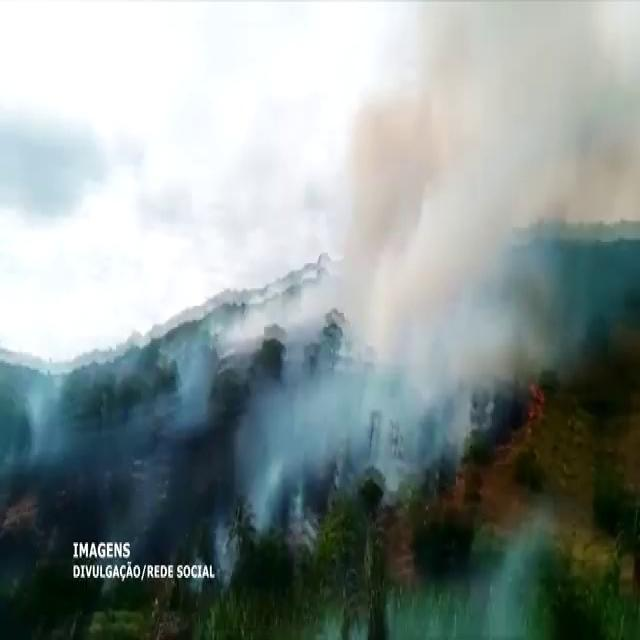Fire: (524, 386, 548, 439)
Smoke: (332, 25, 594, 382), (234, 366, 365, 503), (384, 404, 462, 471), (168, 344, 208, 434), (16, 370, 54, 460)
